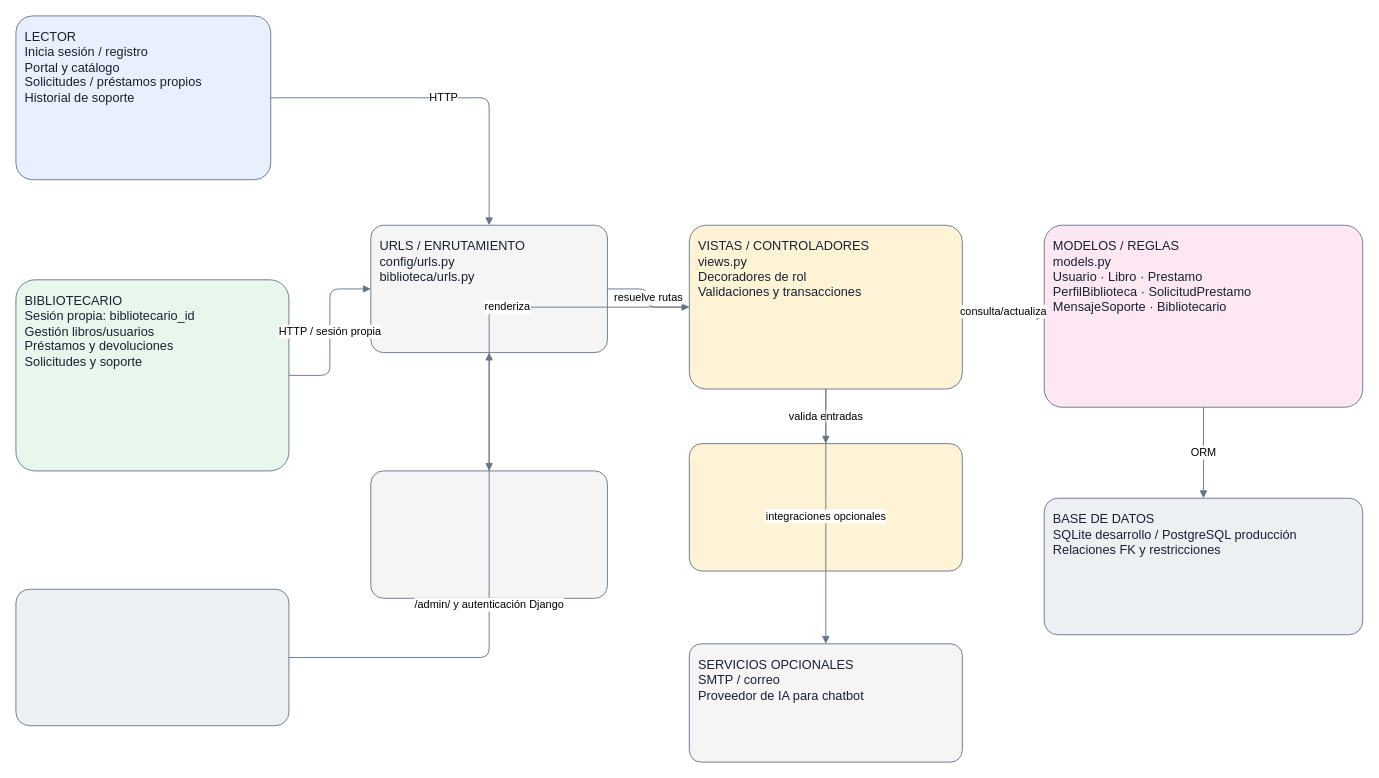
Image size: 1379x778. Some labels were removed from this diagram. Each missing label, with the box of its shape:
FORMULARIOS forms.py Límites y validaciones de entrada: (688, 443, 962, 571)
PLANTILLAS + STATIC HTML/CSS/JS · logo · admin CSS: (370, 470, 607, 598)
SUPERUSUARIO DJANGO Django Admin / permisos staff Configuración y administración: (15, 588, 289, 726)
